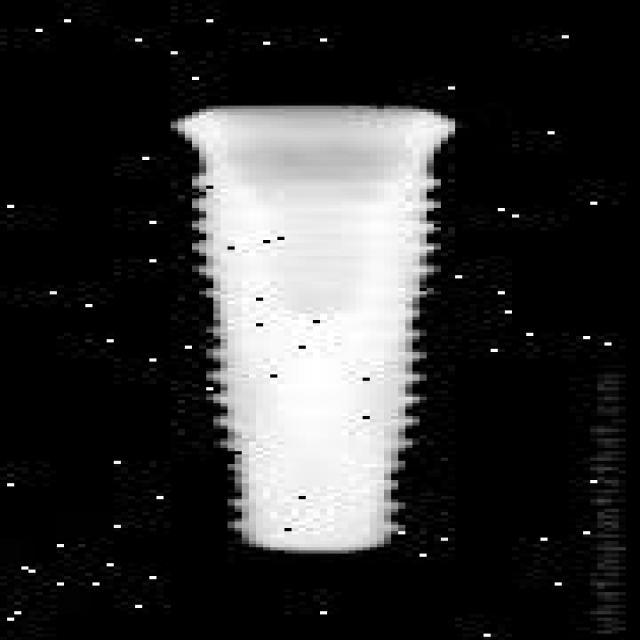Titan Implant Implant: (159, 100, 455, 559)
